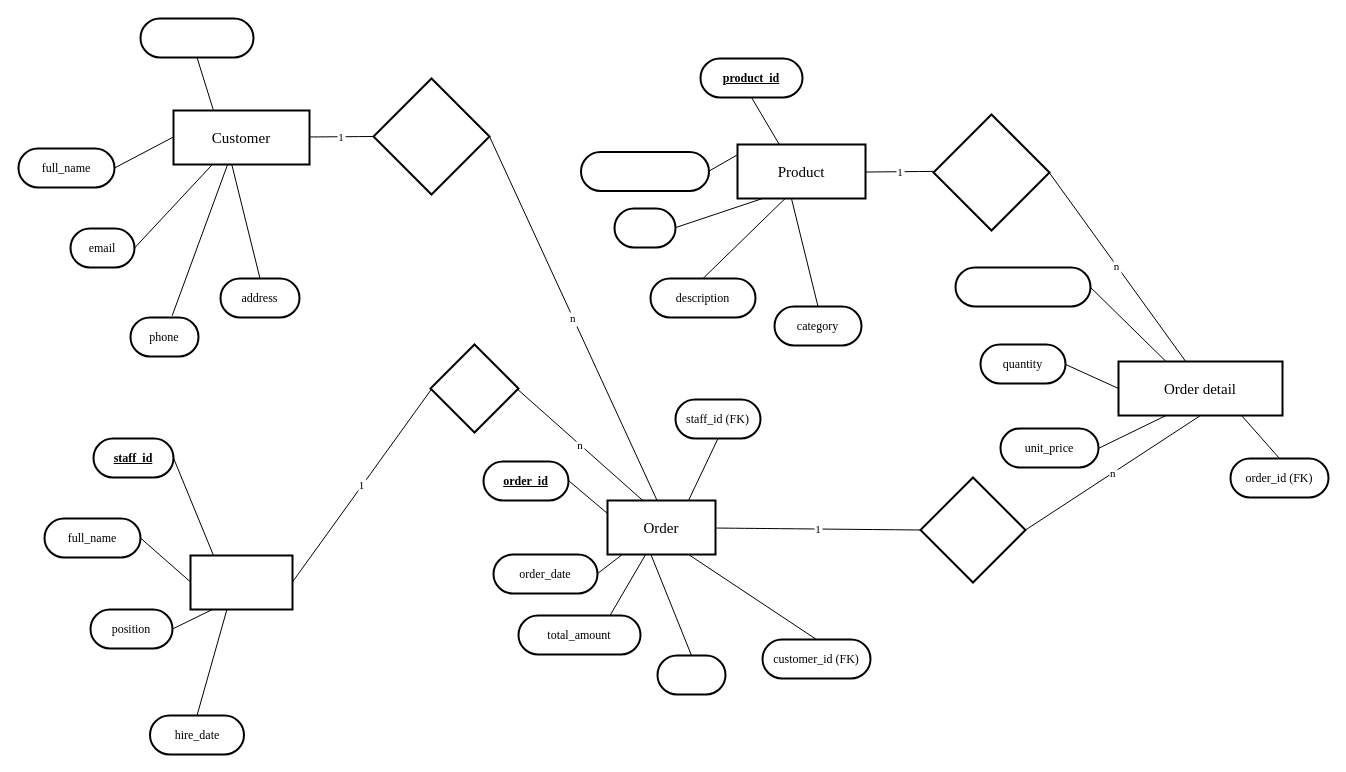
This 1346x772 diagram has some shape labels left out. Each missing label, with the centre of its shape:
customer_id: point 196,37
Gồm: point 972,529
order_detail_id: point 1022,286
price: point 644,227
product_name: point 645,171
Staff: point 241,582
status: point 691,674
Thuộc về: point 991,172
Xử lý: point 474,388
Đặt hàng: point 431,136
